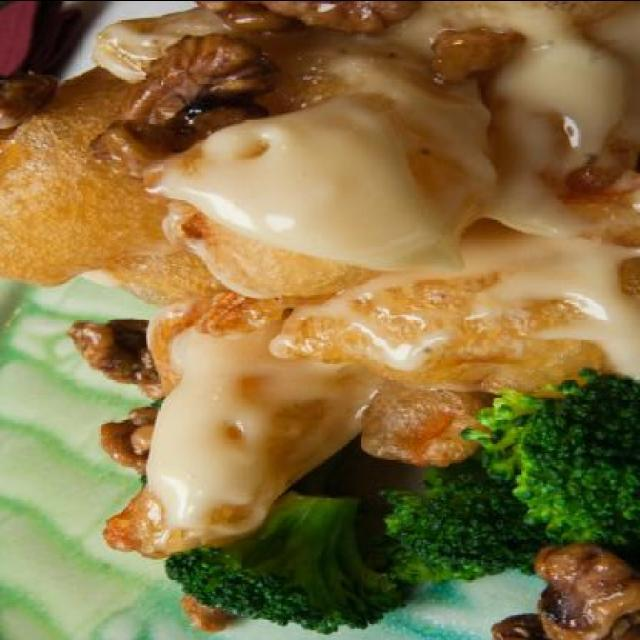Broccoli: (160, 488, 402, 634), (462, 376, 630, 548), (380, 465, 551, 583)
